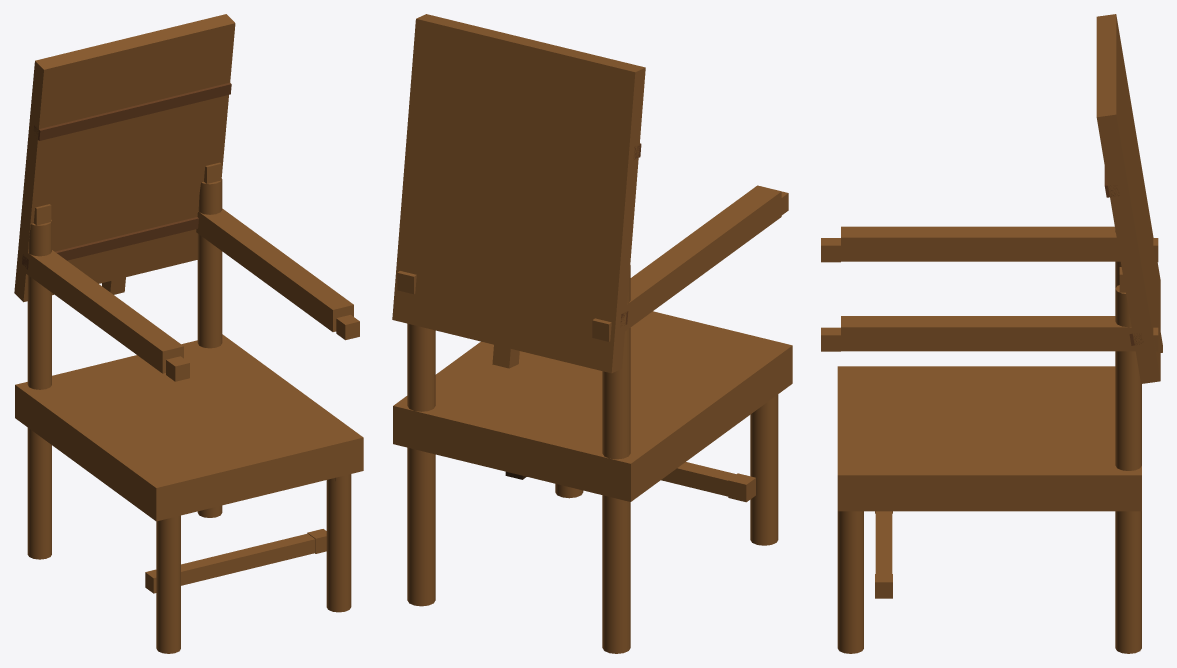
File: chair-full.glb
3 renders of one model, left to right at view 1: azimuth 30°, elevation 25°; view 2: azimuth 150°, elevation 25°; view 3: azimuth 270°, elevation 25°, orthographic. The views are drawn at different scales.
Size of the model in its own units: 0.78 by 1.8 by 1.03.
